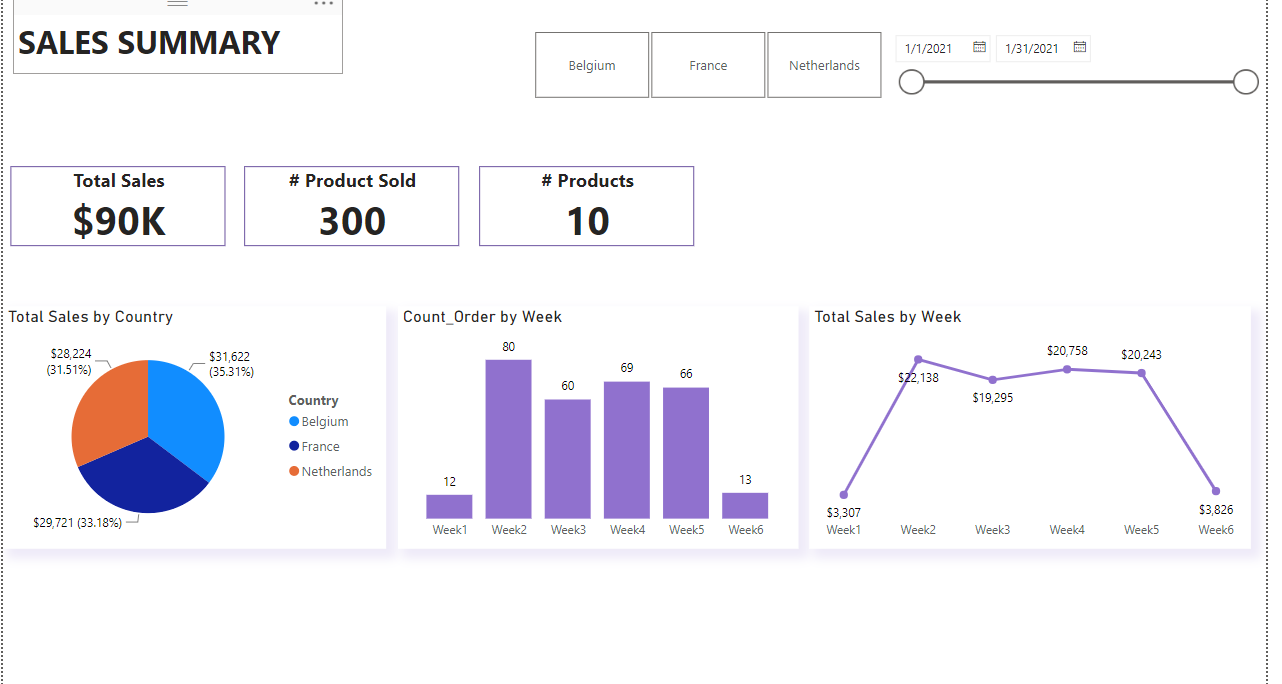

This screenshot's page, from the dashboard's own definition file:
{"tool":"powerbi","page":{"name":"Page 1","canvas":[1280,720],"ordinal":0},"visuals":[{"type":"textbox","box":[10,0,334.2,59.7],"z":0},{"type":"slicer","fields":{"Values":["Sales.Country"]},"box":[512.2,10.1,401.1,80.8],"z":1000},{"type":"pieChart","fields":{"Category":["Sales.Country"],"Y":["Sales.Total Sales"]},"box":[0,295.5,388.1,245.3],"z":2000},{"type":"clusteredColumnChart","fields":{"Y":["Sales.Count_Order"],"Category":["Sales.Week"]},"box":[399.6,295.5,405.4,245.3],"z":3000},{"type":"card","title":"Total Sales","fields":{"Values":["Sales.Total Sales"]},"box":[8.1,153.2,217.9,80.8],"z":4000},{"type":"card","title":"# Product Sold","fields":{"Values":["Sales.Count_Order"]},"box":[244.7,153.2,217.9,80.8],"z":5000},{"type":"card","title":"# Products","fields":{"Values":["Sales.Count_Product"]},"box":[482.7,153.2,217.9,80.8],"z":6000},{"type":"lineChart","fields":{"Category":["Sales.Week"],"Y":["Sales.Total Sales"]},"box":[816.6,295.5,447.3,245.3],"z":7000},{"type":"slicer","fields":{"Values":["Sales.date"]},"box":[891.6,10.1,388.1,80.8],"z":8000}]}

Visuals, with their boxes on the page's 1280x720 design canvas (x1, y1, x2, y2). These are canvas units, not pixel positions in the 1282x684 screenshot, which may show the page scaled, cropped or inside an application window:
textbox: (10, 0, 344, 60)
slicer - Sales.Country: (512, 10, 913, 91)
pieChart - Sales.Country x Sales.Total Sales: (0, 296, 388, 541)
clusteredColumnChart - Sales.Count_Order x Sales.Week: (400, 296, 805, 541)
"Total Sales" card: (8, 153, 226, 234)
"# Product Sold" card: (245, 153, 463, 234)
"# Products" card: (483, 153, 701, 234)
lineChart - Sales.Week x Sales.Total Sales: (817, 296, 1264, 541)
slicer - Sales.date: (892, 10, 1280, 91)
